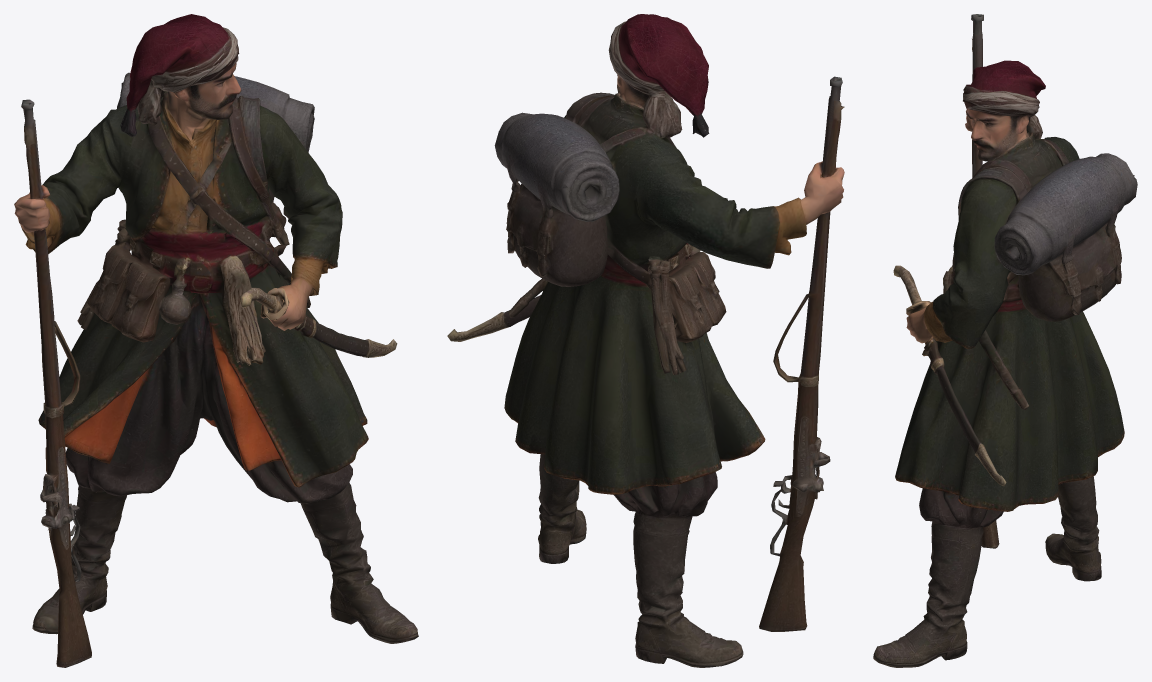
The model's file is sekban-sarica-tufekci-1600-1700-tripo-v2.glb.
3 renders of one model, left to right at view 1: azimuth 30°, elevation 25°; view 2: azimuth 150°, elevation 25°; view 3: azimuth 270°, elevation 25°, orthographic. The views are drawn at different scales.
Parts seen in each view (by area): view 1: tripo_node_f6f40aed-b8e5-4707-8eeb-3f6aa1d7fde2; view 2: tripo_node_f6f40aed-b8e5-4707-8eeb-3f6aa1d7fde2; view 3: tripo_node_f6f40aed-b8e5-4707-8eeb-3f6aa1d7fde2.
Boxes of the visible parts, x1,y1,x2,y2 form: tripo_node_f6f40aed-b8e5-4707-8eeb-3f6aa1d7fde2: (14, 14, 418, 667); tripo_node_f6f40aed-b8e5-4707-8eeb-3f6aa1d7fde2: (447, 14, 844, 667); tripo_node_f6f40aed-b8e5-4707-8eeb-3f6aa1d7fde2: (873, 14, 1137, 667).
Size of the model in its own units: 0.6812 by 1 by 0.4493.
1 material, 1 textured.
